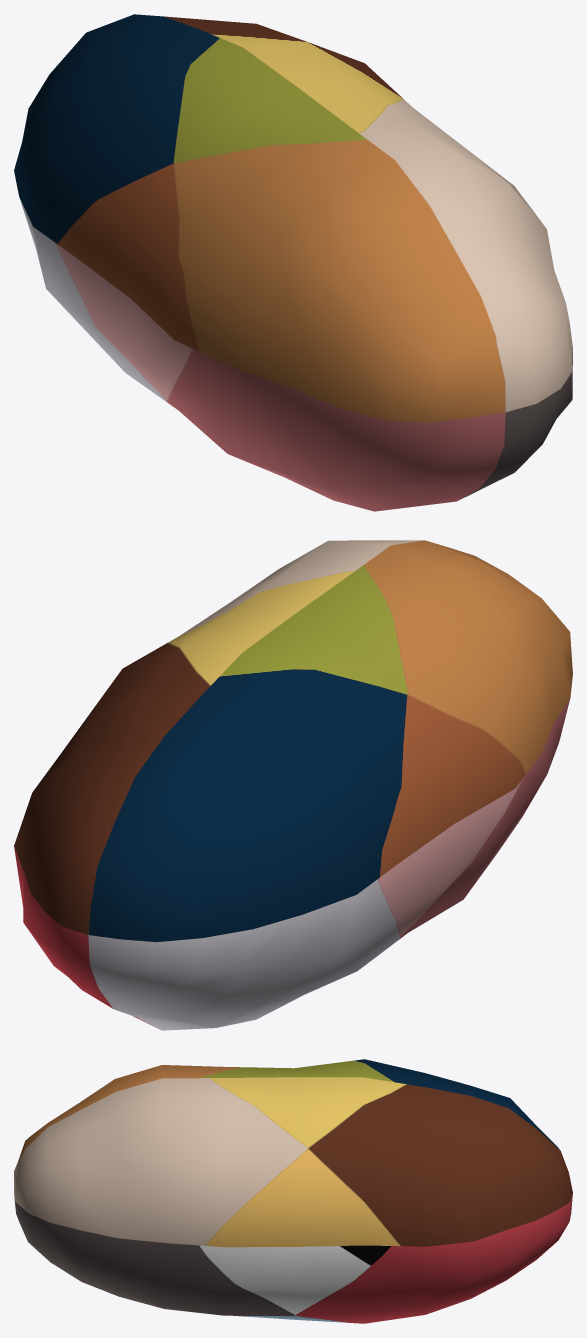
File: MotorPartOld.fbx
The picture shows the model from 3 angles, top to bottom: view 1: azimuth 30°, elevation 25°; view 2: azimuth 150°, elevation 25°; view 3: azimuth 270°, elevation 25°; orthographic projection. The views are drawn at different scales.
Visible parts, largest first — view 1: Cylinder; view 2: Cylinder; view 3: Cylinder.
Boxes of the visible parts, x1,y1,x2,y2 form: Cylinder: (14, 14, 572, 511); Cylinder: (14, 540, 572, 1030); Cylinder: (14, 1059, 572, 1323).
Bounding box in the file's own units: 65.08 × 64.8 × 138.
